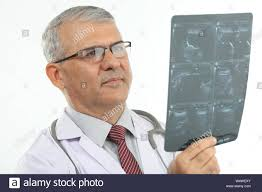Indian_Male: (68, 17, 142, 109)
